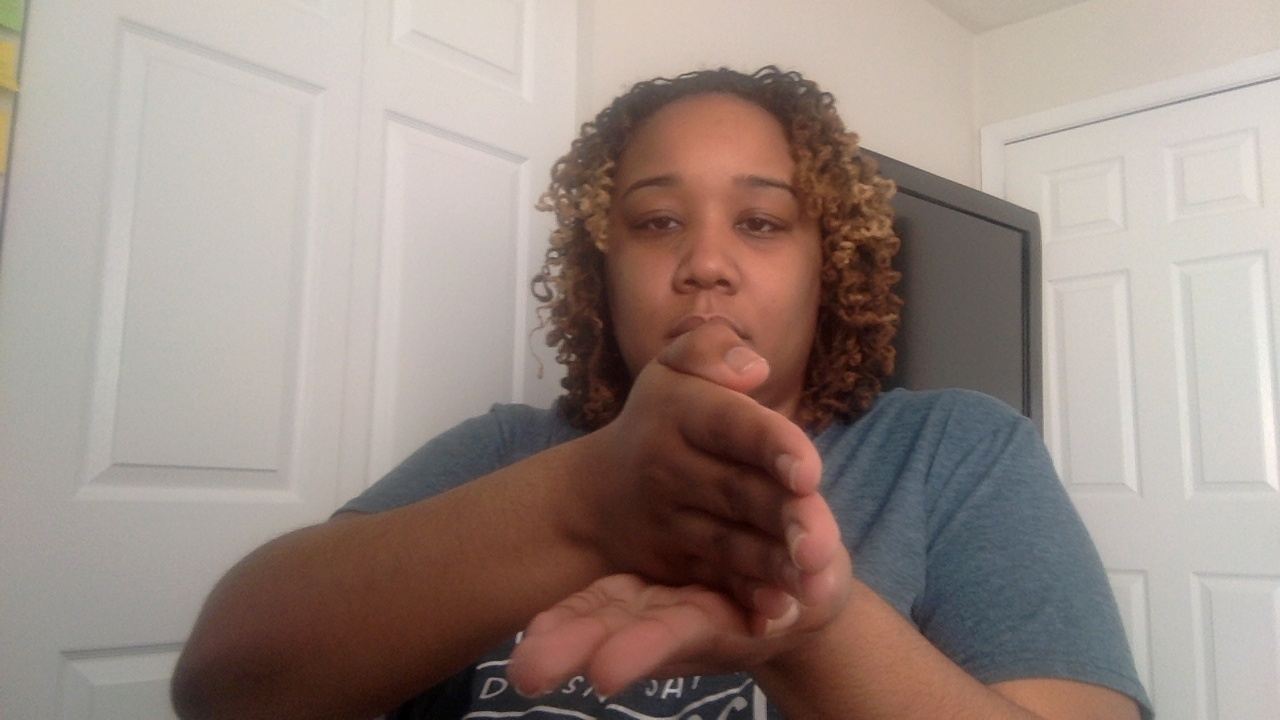stop: (500, 328, 862, 720)
